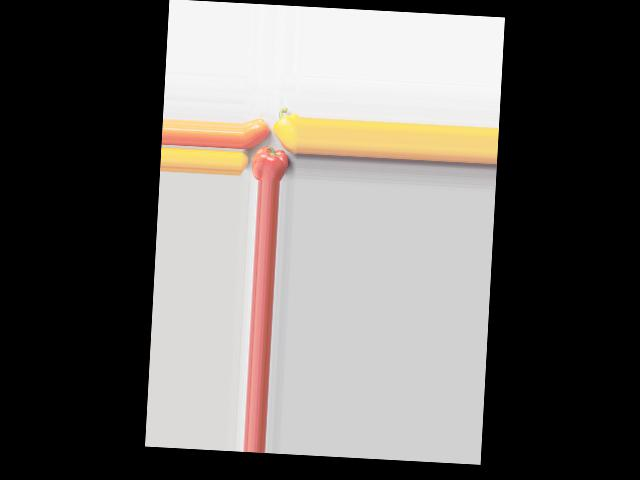bell_pepper: (251, 146, 291, 181)
